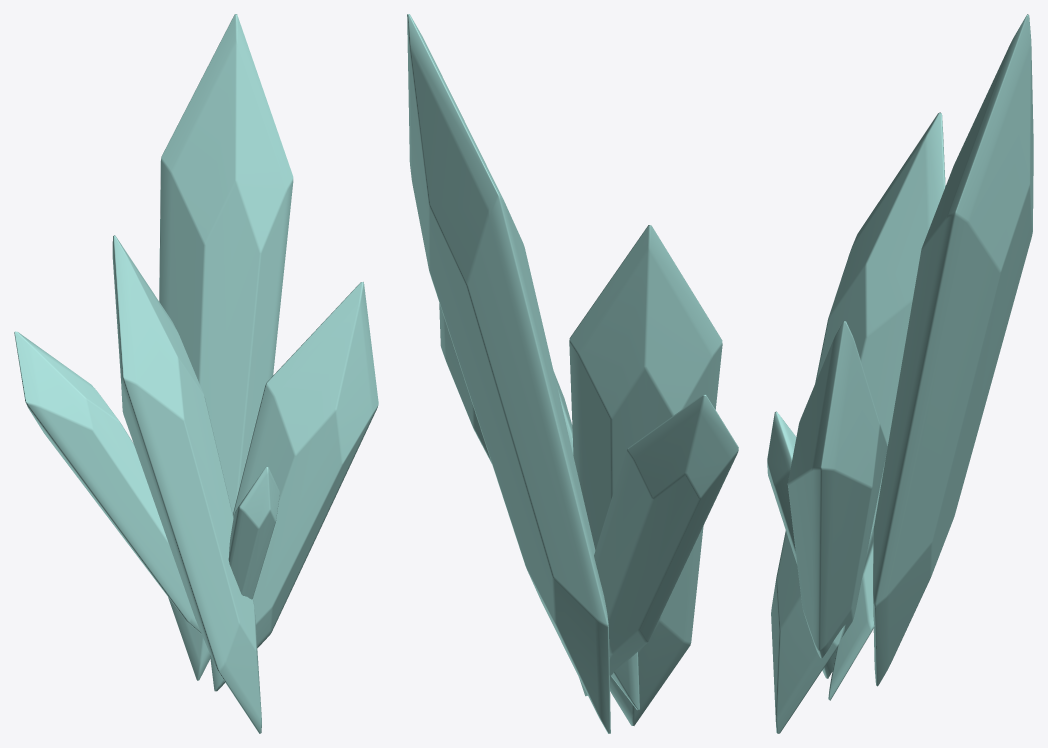
The model's file is SM_Crystal.002.fbx.
3 renders of one model, left to right at view 1: azimuth 30°, elevation 25°; view 2: azimuth 150°, elevation 25°; view 3: azimuth 270°, elevation 25°, orthographic. The views are drawn at different scales.
Parts seen in each view (by area): view 1: Crystal.001; view 2: Crystal.001; view 3: Crystal.001.
Boxes of the visible parts, x1=… form: Crystal.001: x1=14, y1=14, x2=378, y2=733; Crystal.001: x1=407, y1=14, x2=738, y2=733; Crystal.001: x1=767, y1=14, x2=1033, y2=733.
Size of the model in its own units: 72.75 by 147 by 46.45.
